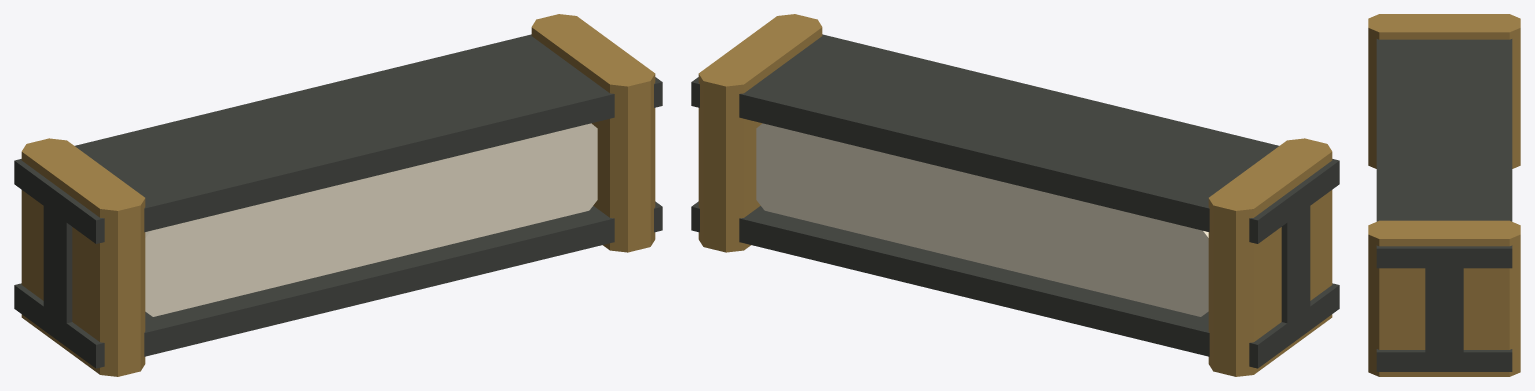
File: b1_beam.glb
The picture shows the model from 3 angles, left to right: view 1: azimuth 30°, elevation 25°; view 2: azimuth 150°, elevation 25°; view 3: azimuth 270°, elevation 25°; orthographic projection. The views are drawn at different scales.
Parts seen in each view (by area): view 1: b1_beam; view 2: b1_beam; view 3: b1_beam.
Boxes of the visible parts, x1,y1,x2,y2 form: b1_beam: [14, 14, 662, 376]; b1_beam: [691, 14, 1339, 376]; b1_beam: [1368, 14, 1520, 376].
Bounding box in the file's own units: 2 × 0.56 × 0.56.
